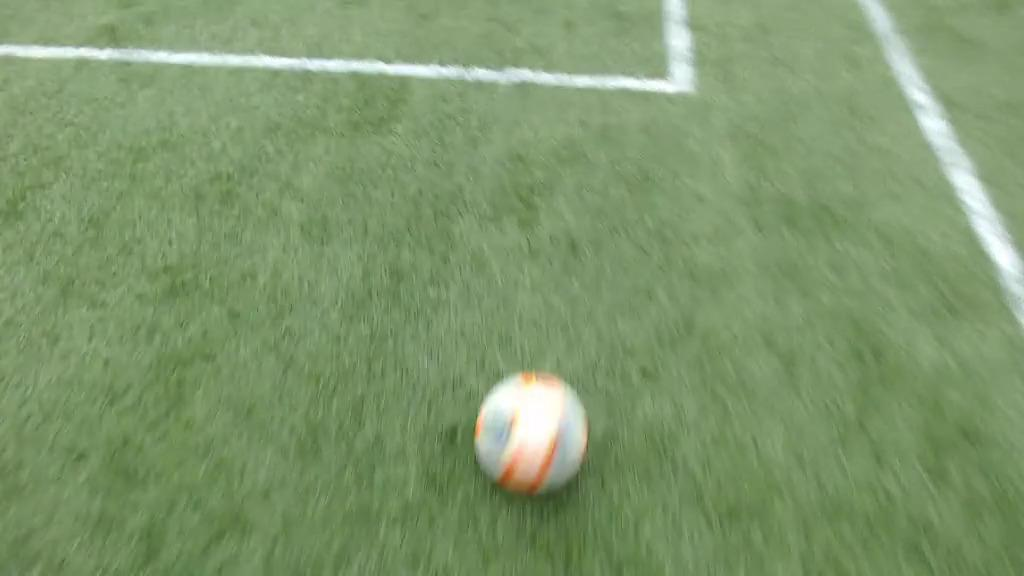ball: (474, 373, 590, 498)
